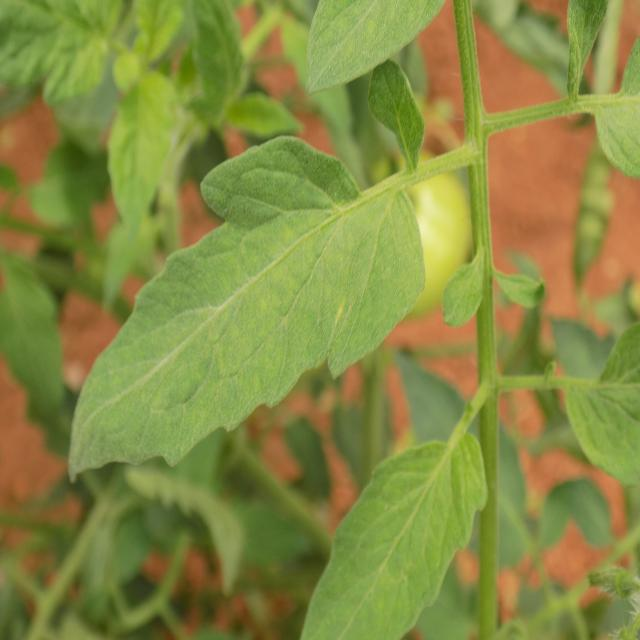tomato_healthy: (60, 133, 432, 491), (298, 422, 489, 640)
